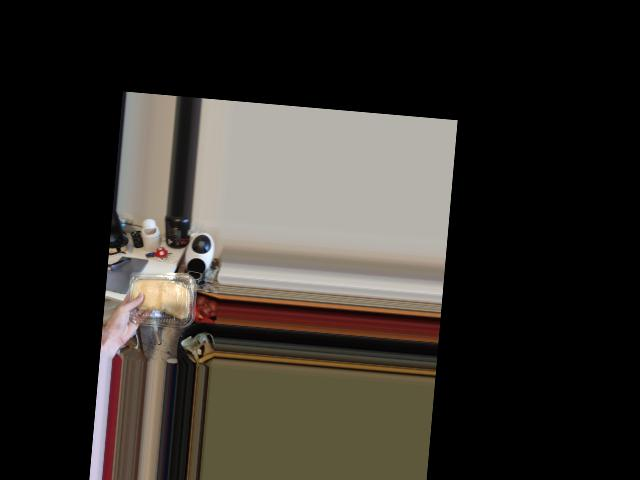cheese: (128, 263, 193, 332)
